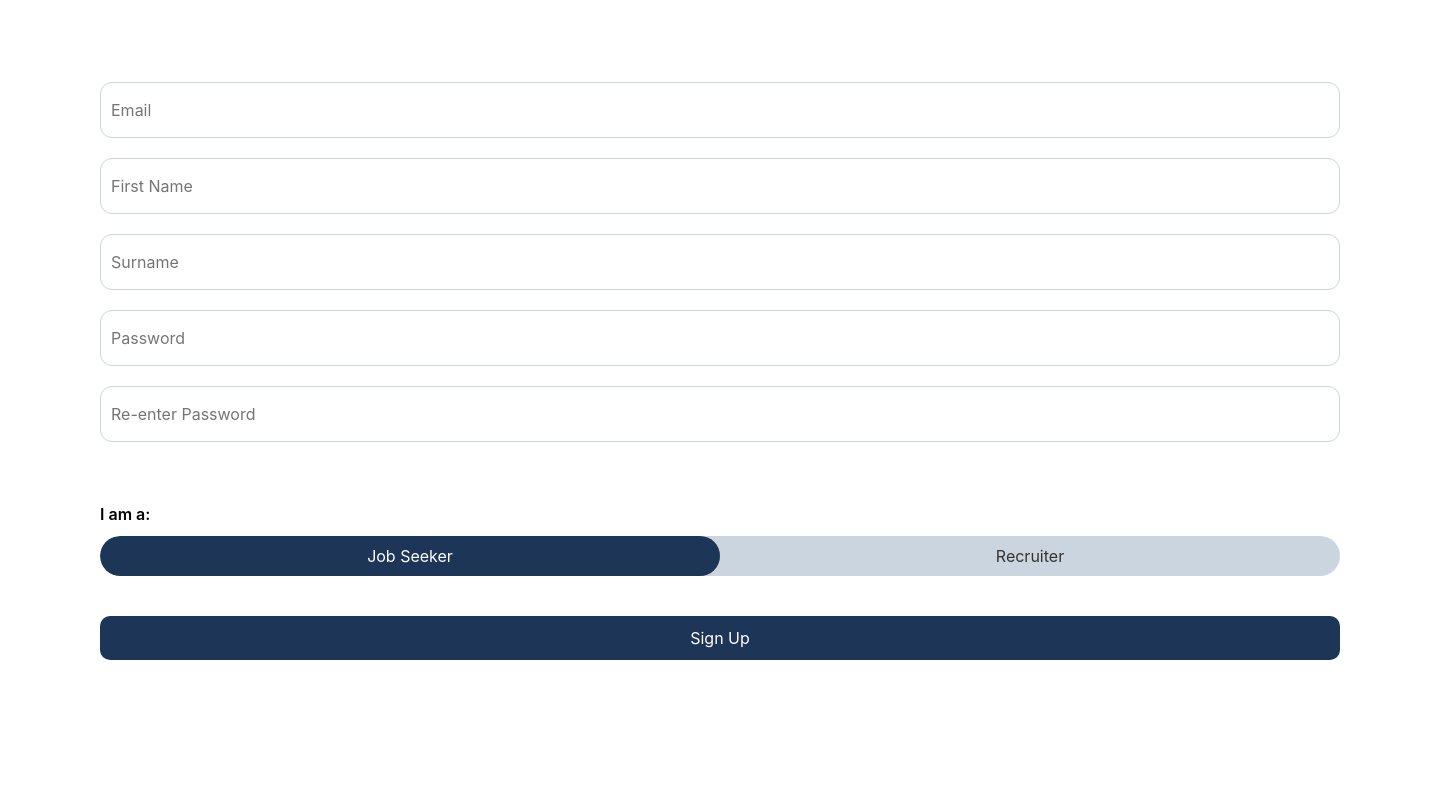
it: SignUpComponent › shows validation errors for empty fields on submit
The width and height of the screenshot is (1440, 788).
(page scrolled)
What coordinates should you click on to do the following:
click the button "Sign Up"
I would click on:
 (720, 638)
Its box is [100,616,1340,660].
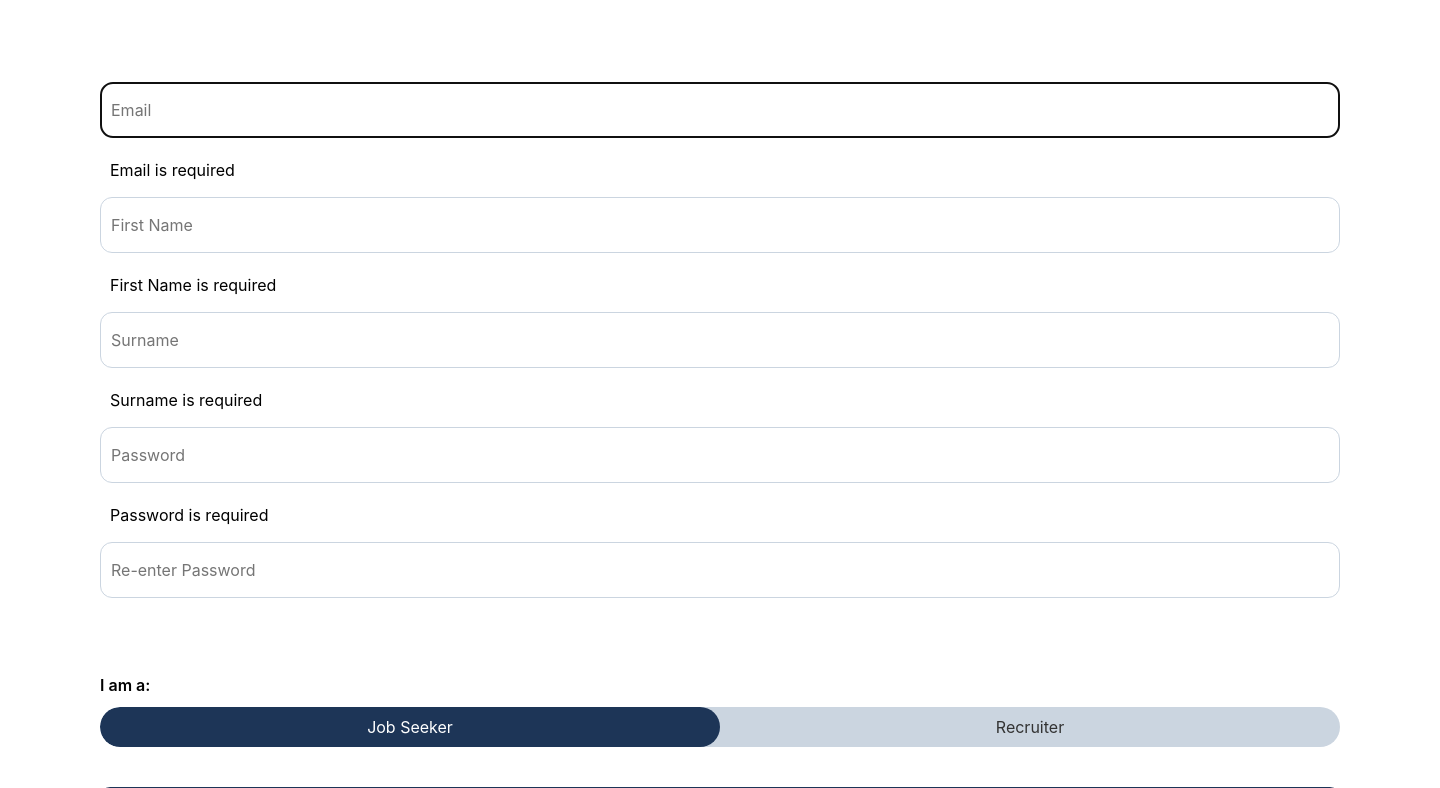
Expected: the text "Email is required" is shown, [110,160,235,180]
Expected: the text "First Name is required" is shown, [110,275,276,295]
Expected: the text "Surname is required" is shown, [110,390,262,410]
